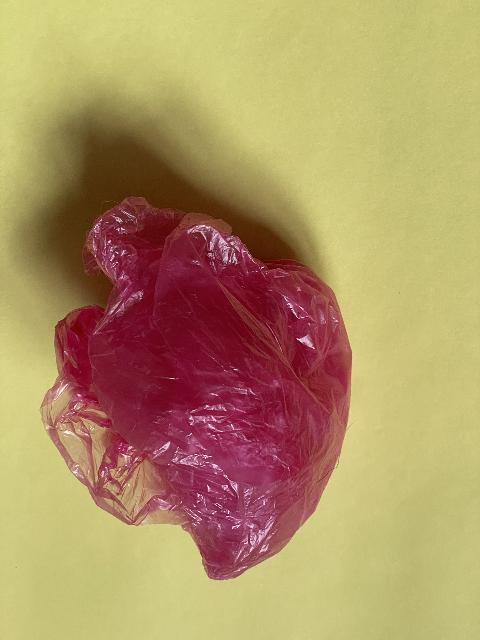plasticbag: (38, 190, 352, 582)
